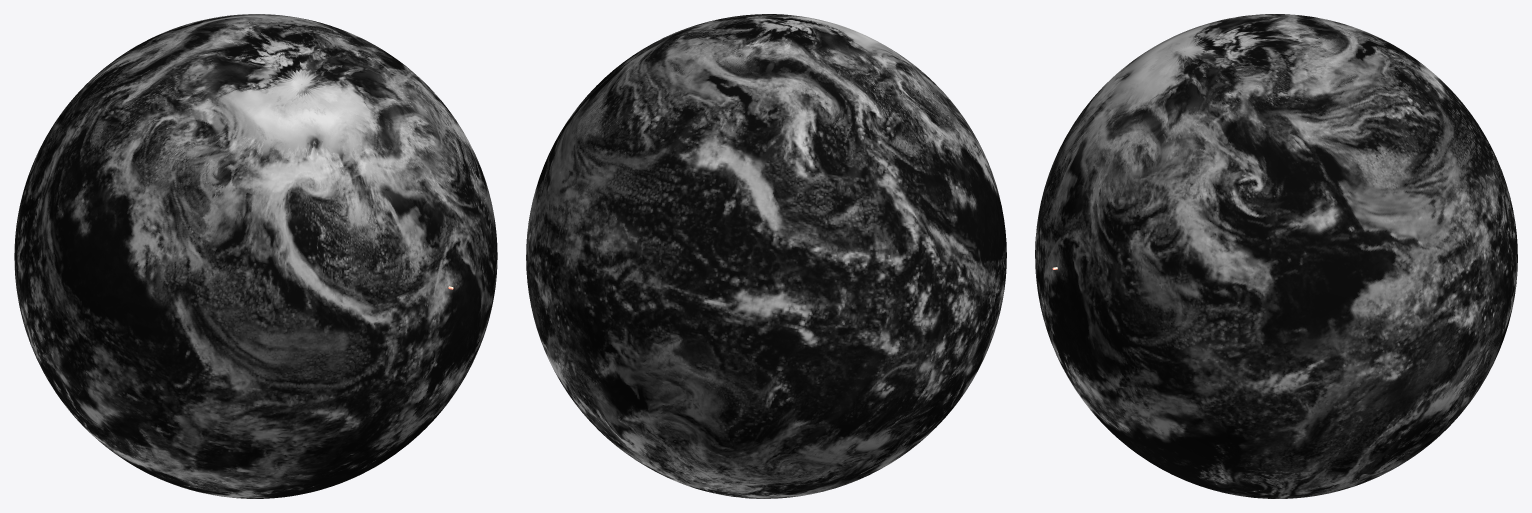
The model's file is Globe.glb.
The picture shows the model from 3 angles, left to right: view 1: azimuth 30°, elevation 25°; view 2: azimuth 150°, elevation 25°; view 3: azimuth 270°, elevation 25°; orthographic projection.
Parts seen in each view (by area): view 1: Clouds; view 2: Clouds; view 3: Clouds.
Boxes of the visible parts, x1,y1,x2,y2 form: Clouds: (14, 14, 497, 498); Clouds: (526, 14, 1006, 498); Clouds: (1035, 14, 1517, 498).
Size of the model in its own units: 3.24 by 3.26 by 3.24.
3 materials, 2 textured.
